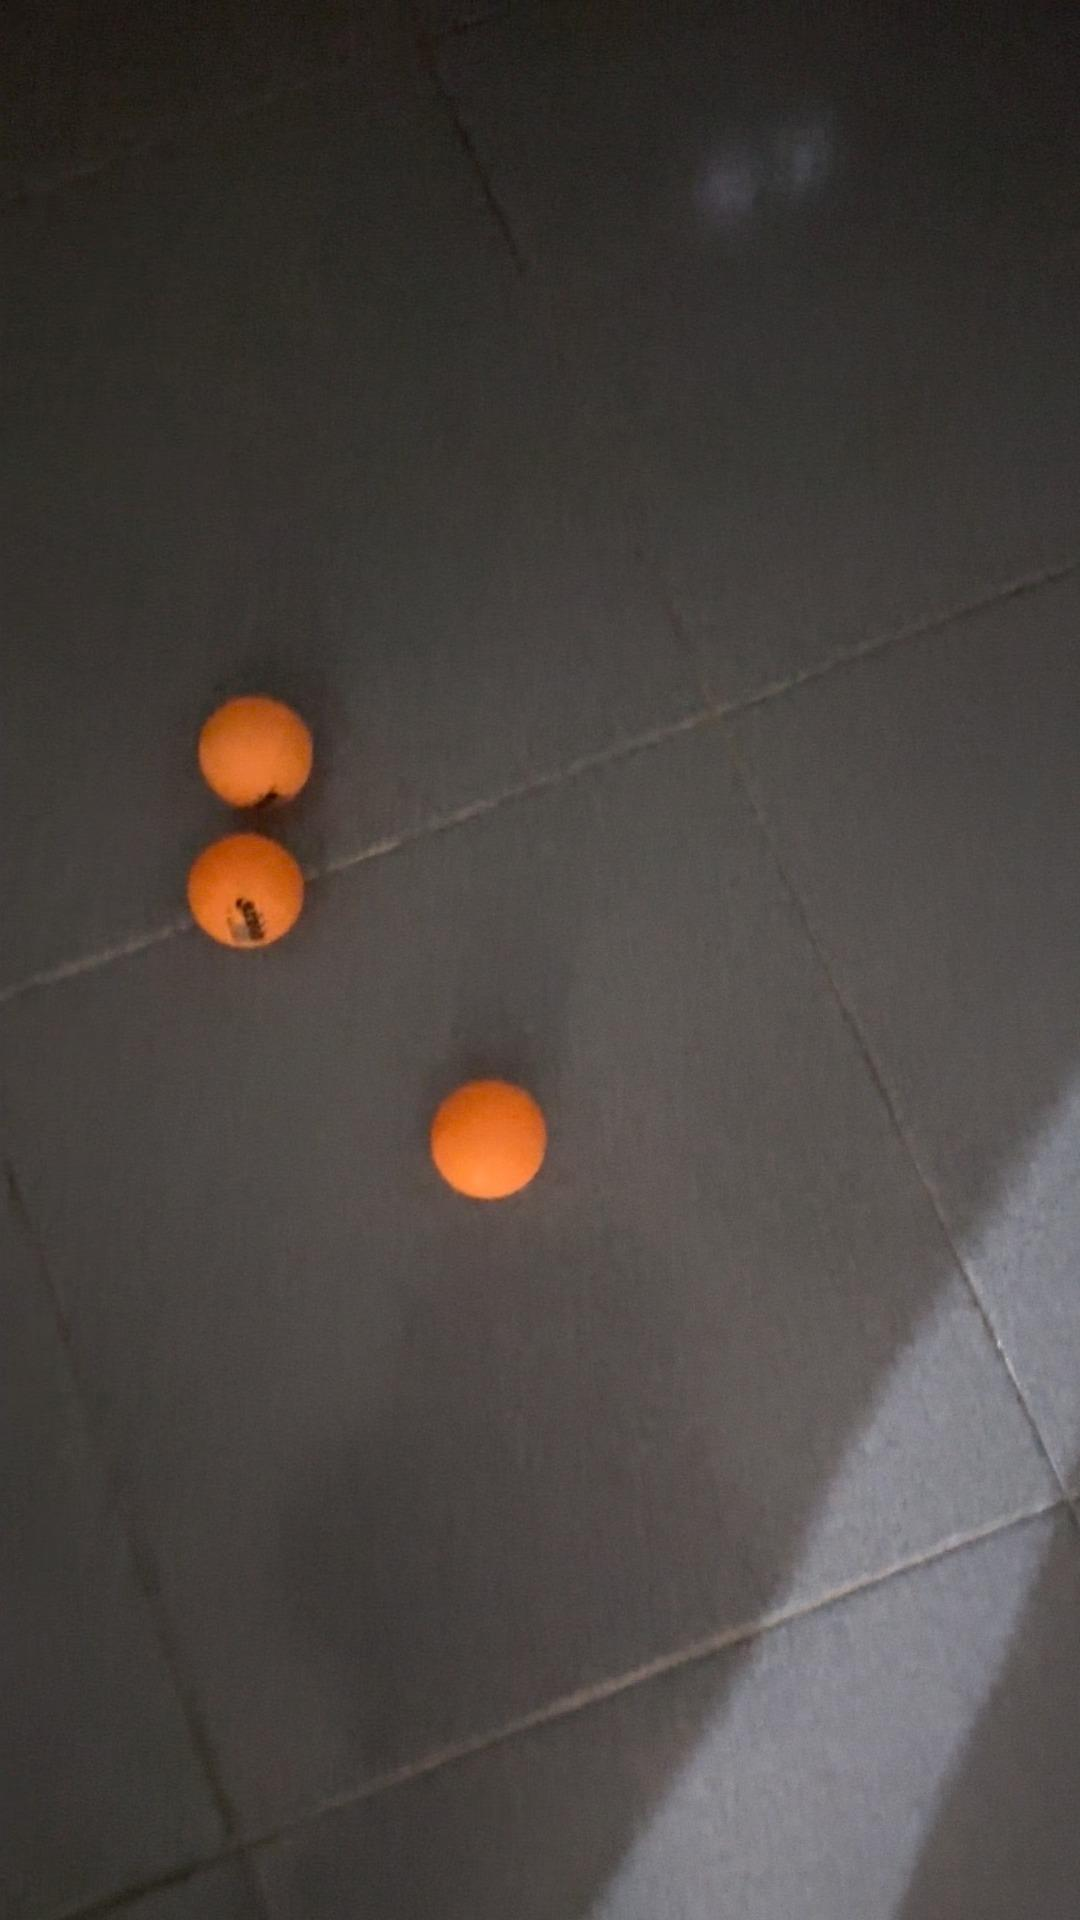oball: (421, 1075, 555, 1207), (187, 695, 322, 819), (186, 837, 306, 953)
